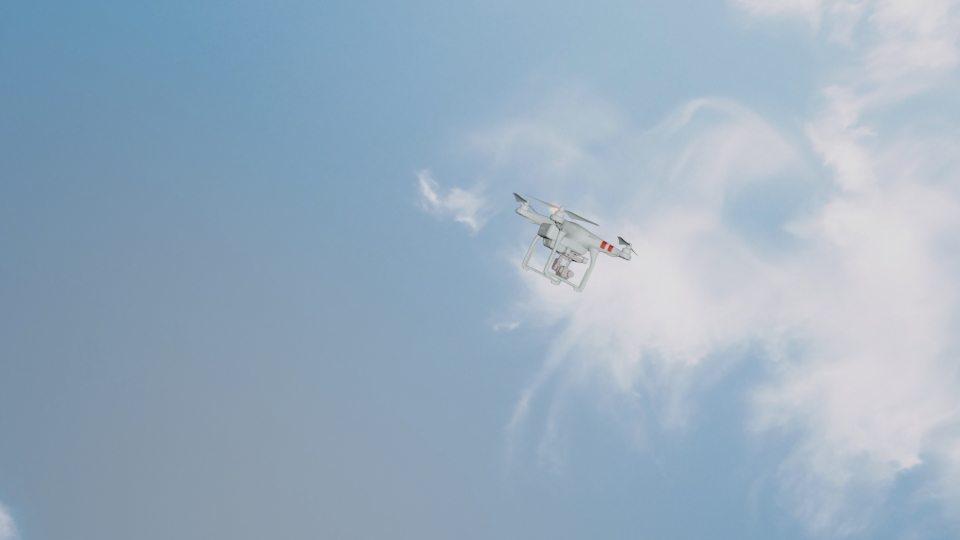drone: (507, 194, 635, 291)
